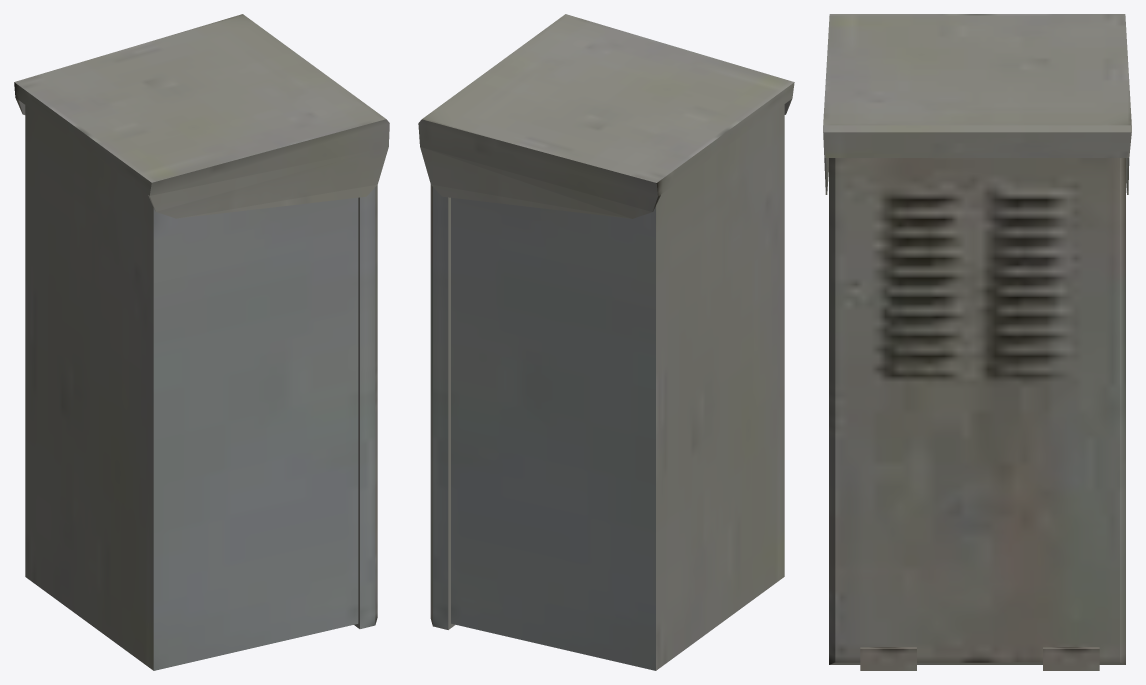
File: powerbox02a.glb
3 renders of one model, left to right at view 1: azimuth 30°, elevation 25°; view 2: azimuth 150°, elevation 25°; view 3: azimuth 270°, elevation 25°, orthographic. The views are drawn at different scales.
Parts seen in each view (by area): view 1: 0_powerbox001; view 2: 0_powerbox001; view 3: 0_powerbox001.
Boxes of the visible parts, bbox=[...] form: 0_powerbox001: bbox=[14, 14, 389, 670]; 0_powerbox001: bbox=[418, 14, 794, 670]; 0_powerbox001: bbox=[823, 14, 1131, 670].
Size of the model in its own units: 0.2806 by 0.5797 by 0.2971.
1 material, 1 textured.
